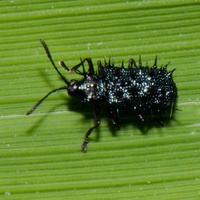insect: (26, 40, 176, 150)
